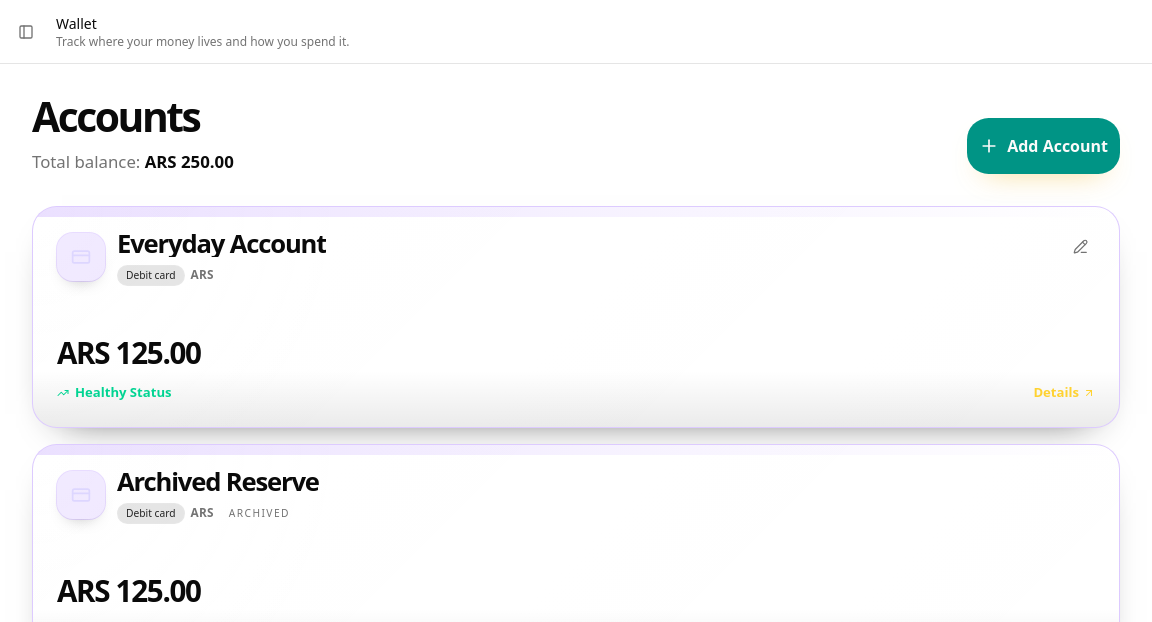
Test: wallet frontend routes › shows a visual edit affordance only for active account cards
Expected: the element with test id "account-edit-affordance-account-123" is shown, [1073,239,1089,255]
Click the link "Everyday Account" at (576, 219), box [32,206,1120,428]
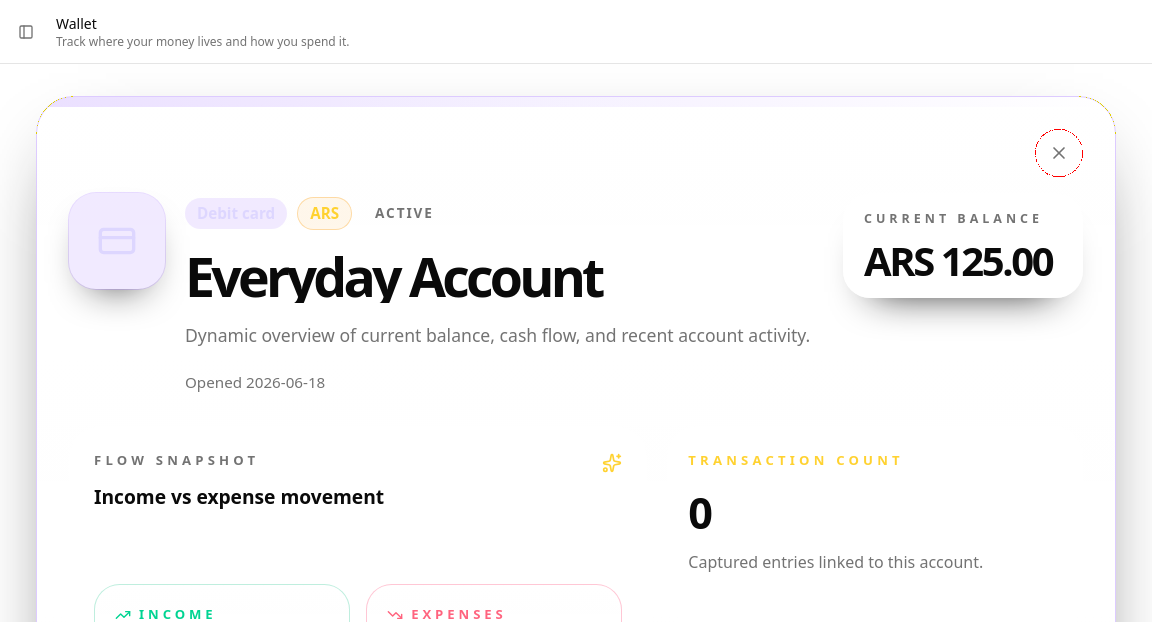
Expected: the heading "Everyday Account" is shown, [185,240,602,313]
Expected: the text "Current balance" is shown, [864,210,1062,229]
